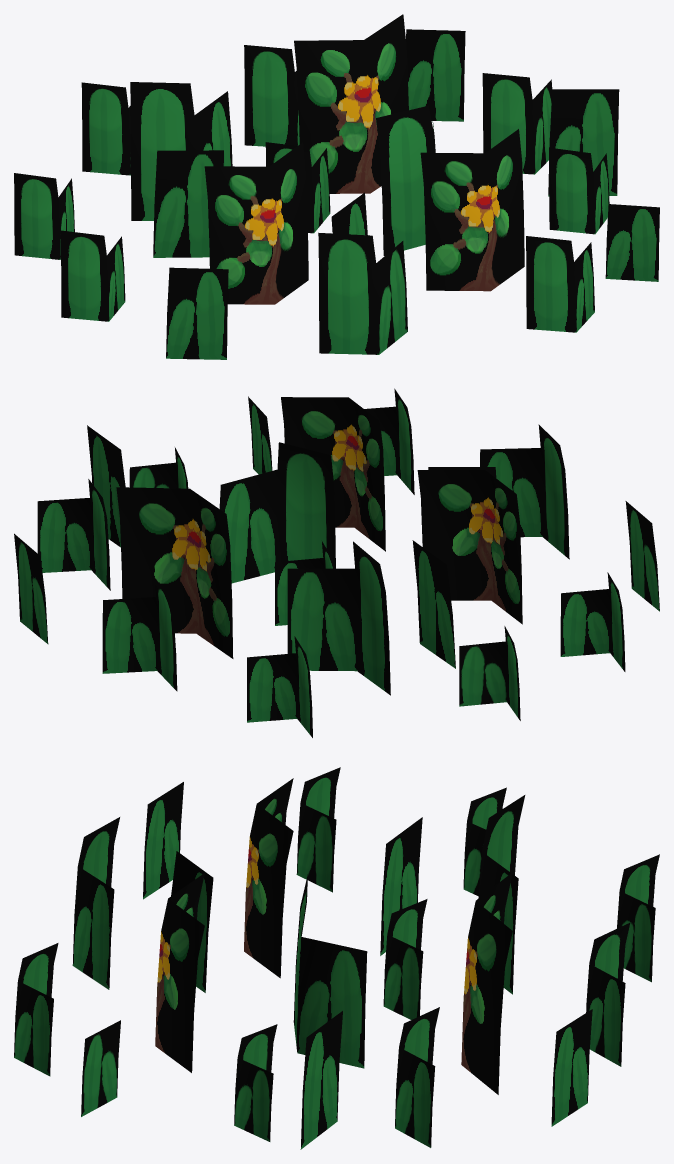
The model's file is grass_2.gltf.
The picture shows the model from 3 angles, top to bottom: view 1: azimuth 30°, elevation 25°; view 2: azimuth 150°, elevation 25°; view 3: azimuth 270°, elevation 25°; orthographic projection. The views are drawn at different scales.
Visible parts, largest first — view 1: Grass2Mesh; view 2: Grass2Mesh; view 3: Grass2Mesh.
Boxes of the visible parts, left/top/right/bottom form: Grass2Mesh: left=14, top=14, right=659, bottom=359; Grass2Mesh: left=14, top=388, right=659, bottom=737; Grass2Mesh: left=14, top=767, right=659, bottom=1149.
Bounding box in the file's own units: 1.63 × 0.425 × 1.51.
1 material, 1 textured.
